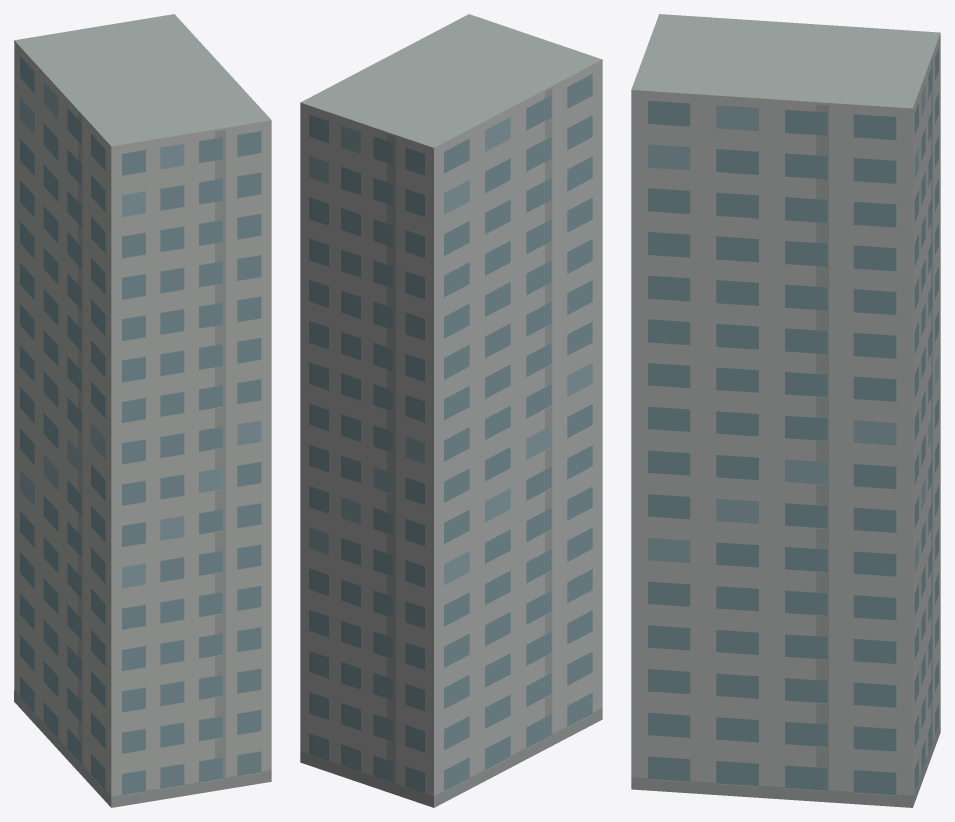
Rendered from residential-fe7d5767-259f-4c1a-b6a9-d919ba695758.glb.
3 renders of one model, left to right at view 1: azimuth 30°, elevation 25°; view 2: azimuth 150°, elevation 25°; view 3: azimuth 270°, elevation 25°, orthographic. The views are drawn at different scales.
Parts seen in each view (by area): view 1: residential-fe7d5767-259f-4c1a-b6a9-d919ba695758.tmp; view 2: residential-fe7d5767-259f-4c1a-b6a9-d919ba695758.tmp; view 3: residential-fe7d5767-259f-4c1a-b6a9-d919ba695758.tmp.
Part boxes in pixels (x1,y1,x2,y2): residential-fe7d5767-259f-4c1a-b6a9-d919ba695758.tmp: [14, 14, 271, 807]; residential-fe7d5767-259f-4c1a-b6a9-d919ba695758.tmp: [300, 14, 602, 807]; residential-fe7d5767-259f-4c1a-b6a9-d919ba695758.tmp: [631, 14, 940, 807].
Bounding box in the file's own units: 21.15 × 73 × 29.29.
